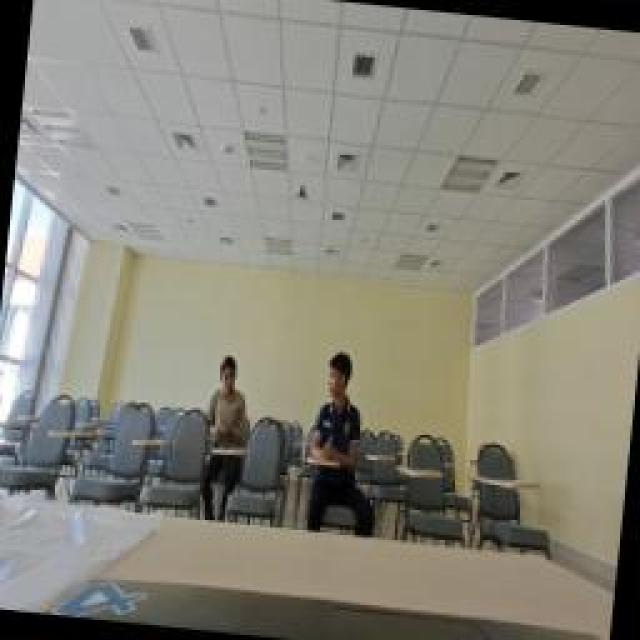study: (308, 343, 370, 465), (202, 350, 252, 452)
